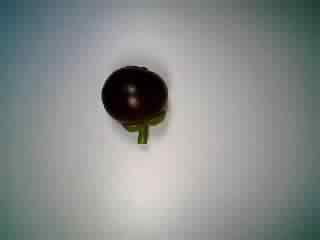mangosteen: (95, 62, 174, 145)
